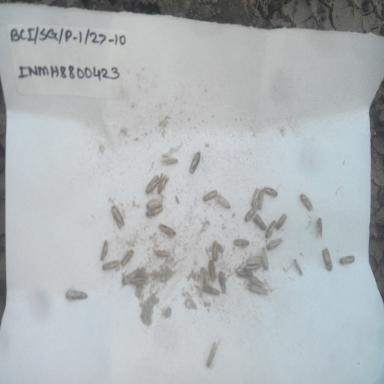pbw: (110, 204, 128, 232), (319, 244, 335, 272), (298, 190, 316, 213), (142, 173, 160, 195), (65, 287, 91, 302), (186, 150, 202, 174), (120, 267, 139, 287), (157, 221, 178, 239), (205, 341, 218, 370), (213, 192, 231, 212), (153, 172, 171, 192), (265, 235, 283, 253), (119, 246, 135, 266), (252, 211, 268, 231), (312, 215, 326, 237), (99, 258, 121, 272), (232, 235, 253, 249), (244, 253, 264, 267), (154, 246, 174, 260), (247, 284, 270, 296), (143, 203, 166, 215), (201, 186, 218, 202), (144, 195, 166, 207), (250, 186, 262, 208), (130, 274, 150, 287), (242, 206, 257, 223), (262, 185, 280, 199), (235, 264, 253, 278), (218, 270, 229, 292), (260, 246, 270, 270), (199, 267, 209, 291), (264, 219, 278, 236), (276, 210, 287, 231), (100, 239, 110, 262), (202, 284, 221, 296), (256, 187, 265, 212), (208, 258, 217, 282), (209, 240, 219, 261), (160, 155, 178, 166), (339, 255, 355, 267), (249, 276, 265, 287), (293, 258, 302, 275)
